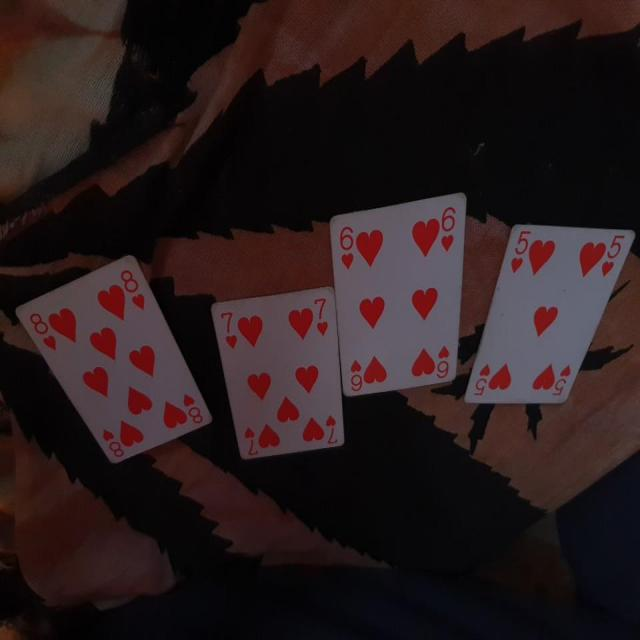5 Hearts: (463, 213, 634, 415)
6 Hearts: (324, 192, 469, 399)
7 Hearts: (210, 281, 346, 462)
8 Hearts: (16, 244, 211, 462)
